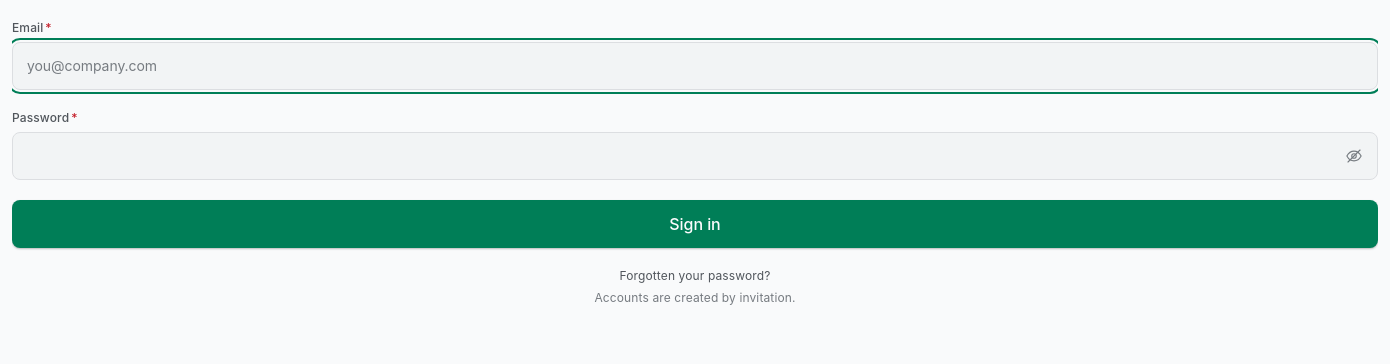
authentication failure › re-enables the form after a failure
The image size is (1390, 364).
Type "sam@abcplumbing.test" into the field labelled "Email*" at [695, 66], box left=12, top=42, right=1378, bottom=90
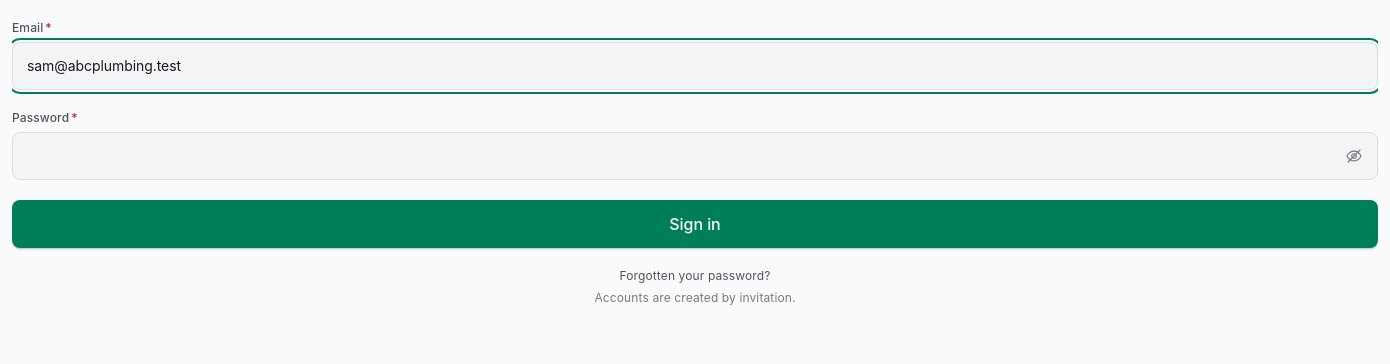
Type "wrong-password-here" into the password field labelled "Password*" at [695, 156], box left=12, top=132, right=1378, bottom=180
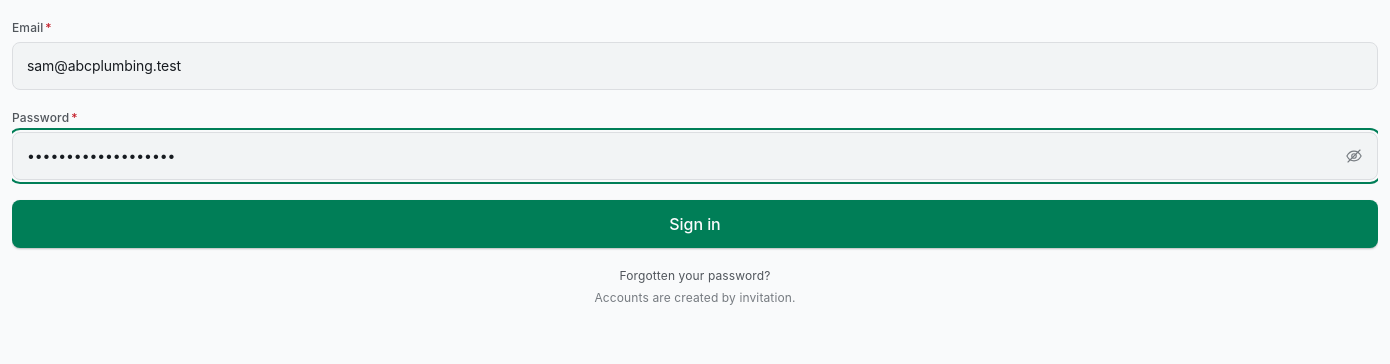
Click the button "Sign in" at [695, 224], box left=12, top=200, right=1378, bottom=248
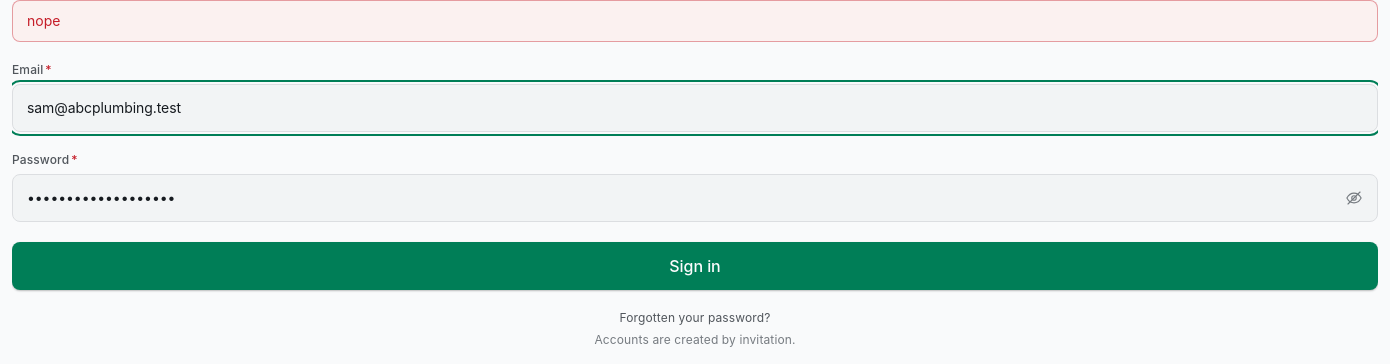
Expected: the field labelled "Email*" is enabled, left=12, top=84, right=1378, bottom=132
Result: the message "nope" is shown at left=12, top=0, right=1378, bottom=42
